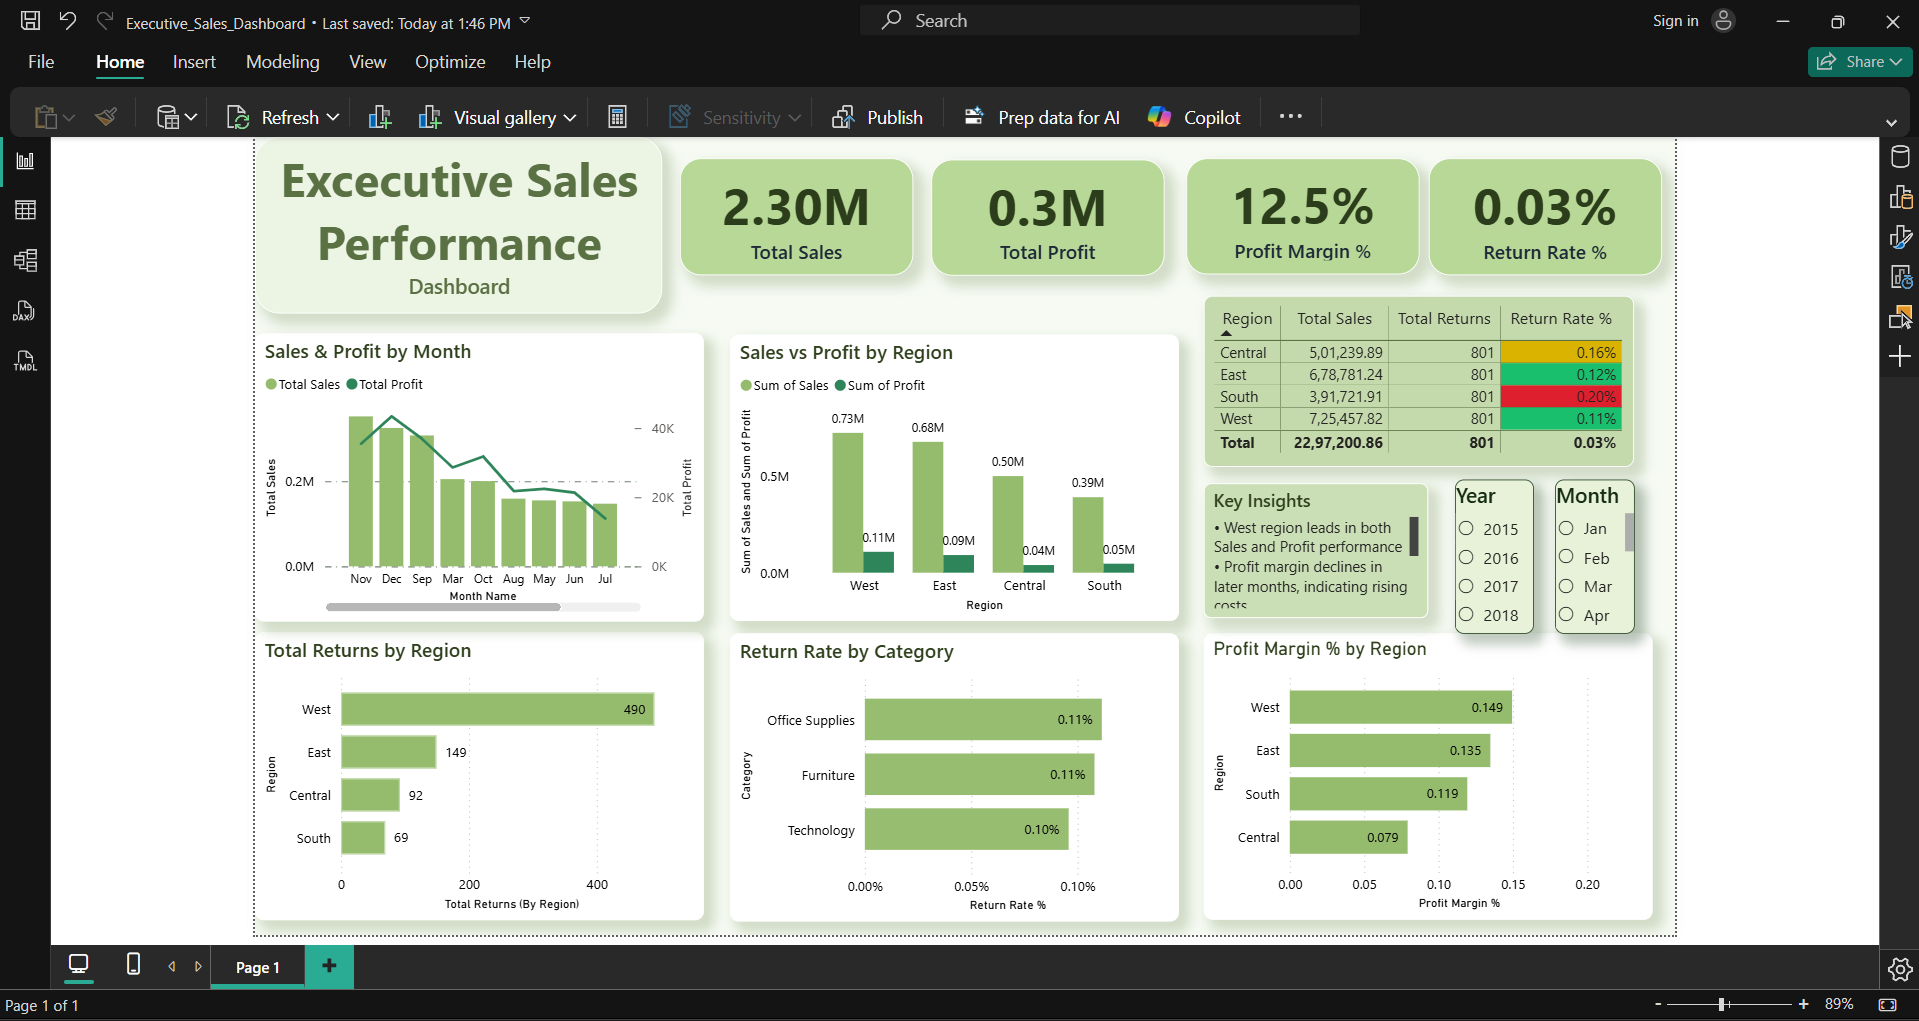

The page's visual inventory and layout, read from the dashboard file:
{"tool":"powerbi","page":{"name":"Page 1","canvas":[1280,720],"ordinal":0},"visuals":[{"type":"clusteredBarChart","title":"Total Returns by Region","fields":{"Category":["Fact_Sales.Region"],"Y":["Fact_Returns.Total Returns (By Region)"]},"box":[0,446.6,404.9,260.2],"z":0},{"type":"tableEx","fields":{"Values":["Fact_Sales.Region","Dim_RegionManager.Total Sales","Dim_RegionManager.Total Returns","Dim_RegionManager.Return Rate %"]},"box":[855.8,143.1,388.1,154.3],"z":1000},{"type":"card","title":"Total Sales","fields":{"Values":["Dim_RegionManager.Total Sales"]},"box":[383.1,18.7,210.2,105.7],"z":2000},{"type":"card","title":"Total Profit","fields":{"Values":["Fact_Sales.Total Profit"]},"box":[609.5,19.9,210.2,104.5],"z":3000},{"type":"card","title":"Profit Margin","fields":{"Values":["Fact_Sales.Profit Margin %"]},"box":[839.7,18.7,210.2,104.5],"z":4000},{"type":"card","title":"Return Rate","fields":{"Values":["Dim_RegionManager.Return Rate %"]},"box":[1058.6,18.7,210.2,105.7],"z":5000},{"type":"clusteredColumnChart","title":"Sales vs Profit by Region","fields":{"Category":["Fact_Sales.Region"],"Y":["Sum(Fact_Sales.Sales)","Sum(Fact_Sales.Profit)"]},"box":[428.5,178.1,404.9,258.8],"z":8000},{"type":"clusteredBarChart","title":"Return Rate by Category","fields":{"Category":["Fact_Sales.Category"],"Y":["Dim_RegionManager.Return Rate %"]},"box":[428.5,448,404.9,260.2],"z":9000},{"type":"lineClusteredColumnComboChart","title":"Sales & Profit by Month","fields":{"Category":["Dim_Date.Month Name"],"Y":["Dim_RegionManager.Total Sales"],"Y2":["Fact_Sales.Total Profit"]},"box":[0,176.7,404.9,260.2],"z":10000},{"type":"textbox","title":"Excecutive Sales Performance ","box":[0,0,367,159.2],"z":11000},{"type":"clusteredBarChart","fields":{"Y":["Fact_Sales.Profit Margin %"],"Category":["Fact_Sales.Region"]},"box":[855.7,448,404.9,258.8],"z":13000},{"type":"textbox","title":"Key Insights","box":[855.8,312.2,202.8,121.9],"z":14000},{"type":"listSlicer","fields":{"Values":["Dim_Date.Year"]},"box":[1082.2,308.5,70.9,139.3],"z":14001},{"type":"listSlicer","title":"Month ","fields":{"Values":["Dim_Date.Month Name"]},"box":[1171.8,308.5,72.1,139.3],"z":14002}]}

Visuals, with their boxes on the page's 1280x720 design canvas (x1, y1, x2, y2). These are canvas units, not pixel positions in the 1919x1021 screenshot, which may show the page scaled, cropped or inside an application window:
"Total Returns by Region" clusteredBarChart: (0, 447, 405, 707)
tableEx - Fact_Sales.Region x Dim_RegionManager.Total Sales: (856, 143, 1244, 297)
"Total Sales" card: (383, 19, 593, 124)
"Total Profit" card: (610, 20, 820, 124)
"Profit Margin" card: (840, 19, 1050, 123)
"Return Rate" card: (1059, 19, 1269, 124)
"Sales vs Profit by Region" clusteredColumnChart: (428, 178, 833, 437)
"Return Rate by Category" clusteredBarChart: (428, 448, 833, 708)
"Sales & Profit by Month" lineClusteredColumnComboChart: (0, 177, 405, 437)
"Excecutive Sales Performance " textbox: (0, 0, 367, 159)
clusteredBarChart - Fact_Sales.Profit Margin % x Fact_Sales.Region: (856, 448, 1261, 707)
"Key Insights" textbox: (856, 312, 1059, 434)
listSlicer - Dim_Date.Year: (1082, 308, 1153, 448)
"Month " listSlicer: (1172, 308, 1244, 448)
